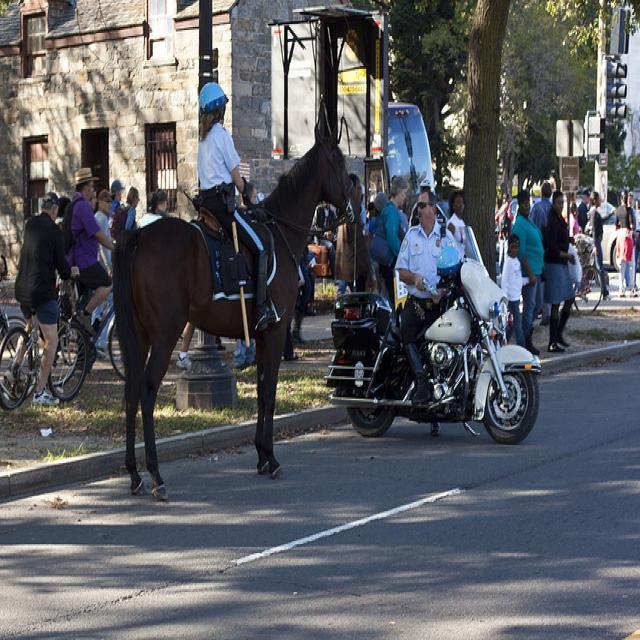motor: (327, 225, 541, 446)
